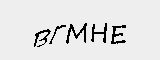В: (33, 27, 49, 49)
Г: (48, 21, 66, 47)
Е: (108, 22, 127, 49)
М: (63, 20, 87, 48)
Н: (90, 20, 111, 45)
